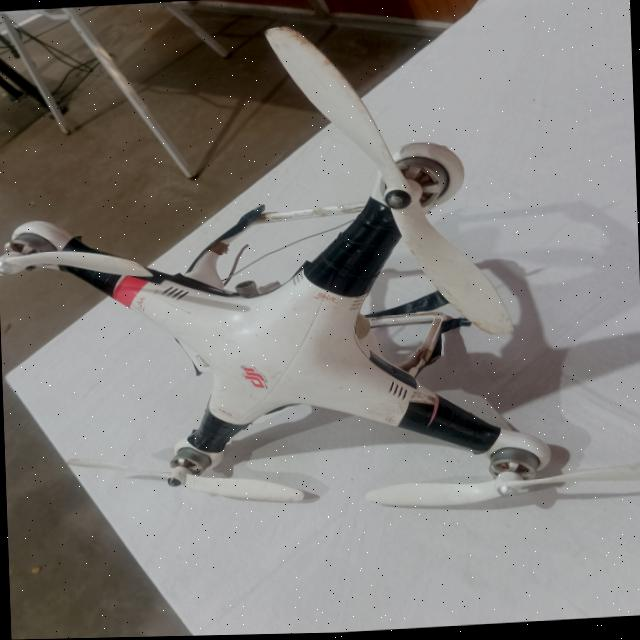drone: (0, 6, 640, 555)
